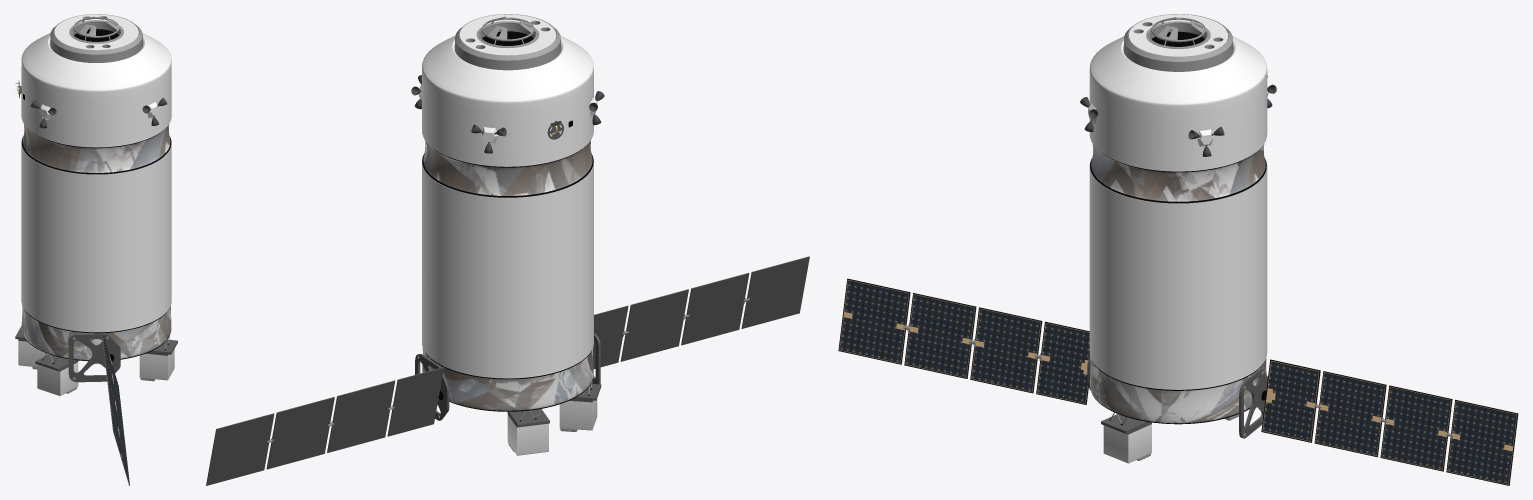
3 renders of one model, left to right at view 1: azimuth 30°, elevation 25°; view 2: azimuth 150°, elevation 25°; view 3: azimuth 270°, elevation 25°, orthographic. The views are drawn at different scales.
Parts seen in each view (by area): view 1: Dragon XL BASE, Dragon XL Docking Port, Cube.012, Cube.022, Cube.021, Cube.023, Cube.016, Cylinder.002, Cube.015, Cube.014, Cube.013; view 2: Dragon XL BASE, Dragon XL Docking Port, Cube.020, Cube.014, Cube.015, Cube.016, Cube.019, Cube.018, Cube.017, Cube.023, Cube.013, Cube.022 (+1 smaller); view 3: Dragon XL BASE, Cube.016, Cube.014, Cube.020, Cube.019, Cube.015, Cube.018, Dragon XL Docking Port, Cube.017, Cube.013, Cube.021, Cube.008.
Part boxes in pixels (<box>): Dragon XL BASE: <box>21,33,171,361</box>; Dragon XL Docking Port: <box>50,14,142,62</box>; Cube.012: <box>68,334,120,382</box>; Cube.022: <box>35,354,78,395</box>; Cube.021: <box>139,339,177,381</box>; Cube.023: <box>15,326,48,369</box>; Cube.016: <box>110,405,129,485</box>; Cylinder.002: <box>71,17,121,42</box>; Cube.015: <box>107,379,126,458</box>; Cube.014: <box>104,352,123,432</box>; Cube.013: <box>101,331,120,405</box>; Dragon XL BASE: <box>422,35,593,411</box>; Dragon XL Docking Port: <box>455,14,560,70</box>; Cube.020: <box>206,413,274,485</box>; Cube.014: <box>620,289,688,361</box>; Cube.015: <box>681,273,749,345</box>; Cube.016: <box>741,256,809,328</box>; Cube.019: <box>266,397,334,469</box>; Cube.018: <box>327,380,395,452</box>; Cube.017: <box>387,367,443,436</box>; Cube.023: <box>507,409,549,455</box>; Cube.013: <box>593,305,628,368</box>; Cube.022: <box>559,384,601,431</box>; Dragon XL BASE: <box>1089,36,1267,424</box>; Cube.016: <box>838,278,910,364</box>; Cube.014: <box>970,307,1042,393</box>; Cube.020: <box>1446,399,1518,485</box>; Cube.019: <box>1380,385,1452,471</box>; Cube.015: <box>904,293,976,378</box>; Cube.018: <box>1314,371,1386,457</box>; Dragon XL Docking Port: <box>1124,14,1232,71</box>; Cube.017: <box>1261,359,1320,442</box>; Cube.013: <box>1036,321,1089,404</box>; Cube.021: <box>1101,414,1151,463</box>; Cube.008: <box>1239,368,1267,438</box>.
Bounding box in the file's own units: 677 × 913 × 1365.
Materials: 9 (2 with a texture image).
